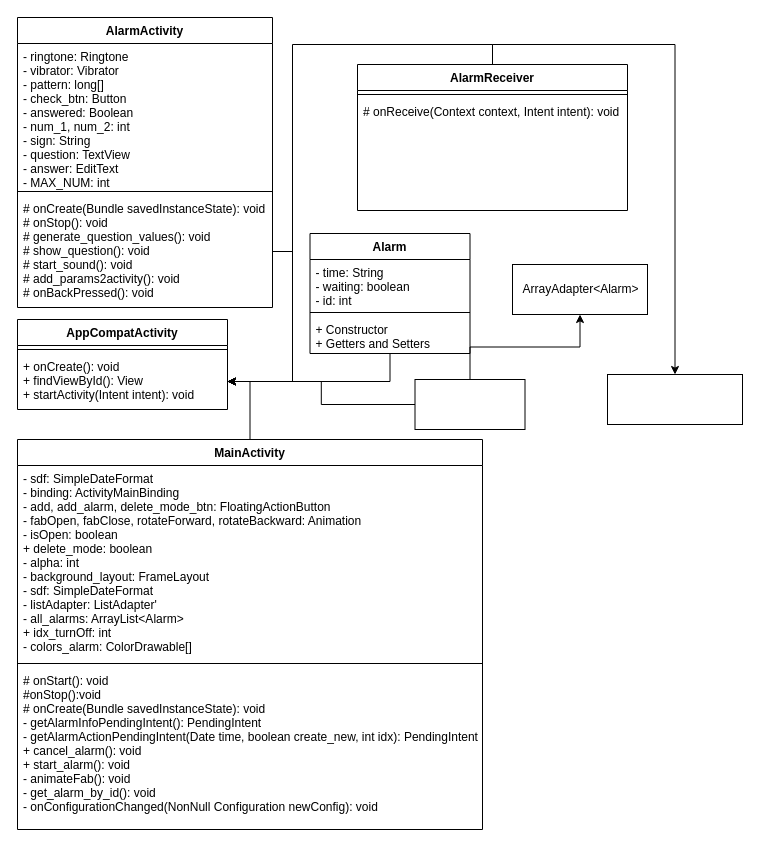
The diagram is 760 pixels wide and 850 high, and some of its shapes have lost their labels. The shapes that lost their labels are listed below. From the top down, each one's centre as x and y in pixels, then its label:
point 469,404: ListAdapter
point 674,399: BroadcastReceiver
